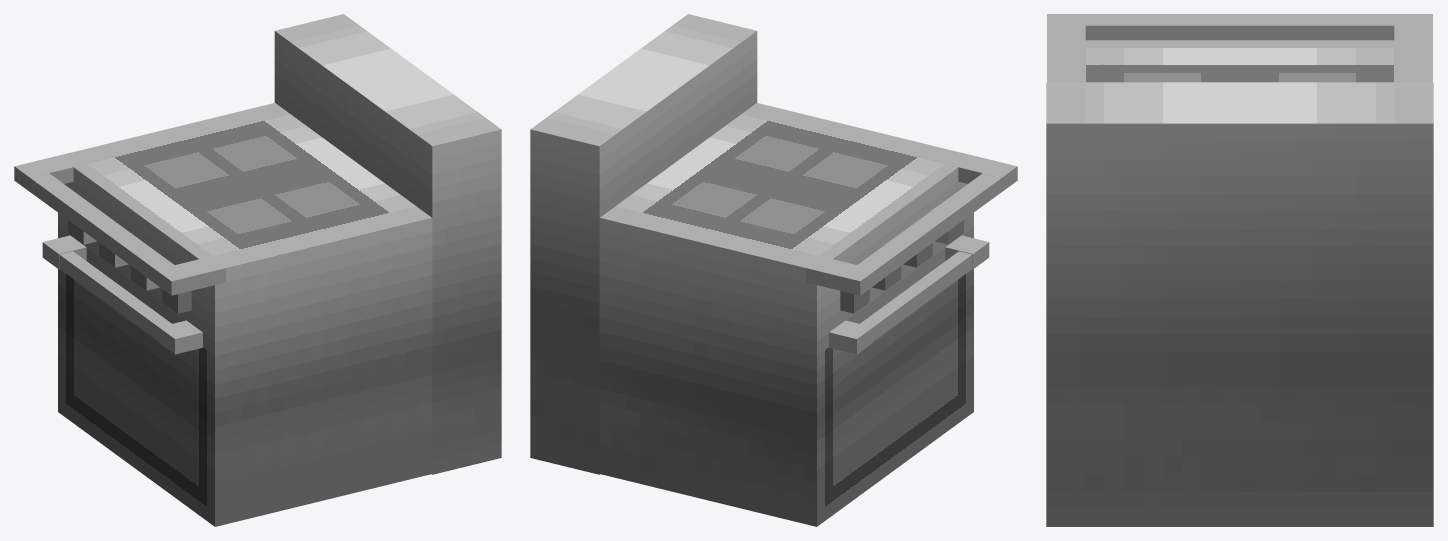
File: Stove.gltf
The picture shows the model from 3 angles, left to right: view 1: azimuth 30°, elevation 25°; view 2: azimuth 150°, elevation 25°; view 3: azimuth 270°, elevation 25°; orthographic projection. The views are drawn at different scales.
Visible parts, largest first — view 1: cube (×8); view 2: cube (×8); view 3: cube (×5).
Part boxes in pixels (x1,y1,x2,y2): cube (×8): (14,14,501,526); cube (×8): (530,14,1017,526); cube (×5): (1046,14,1433,526).
Bounding box in the file's own units: 0.3788 × 0.3606 × 0.3137.
Materials: 1 (1 with a texture image).
